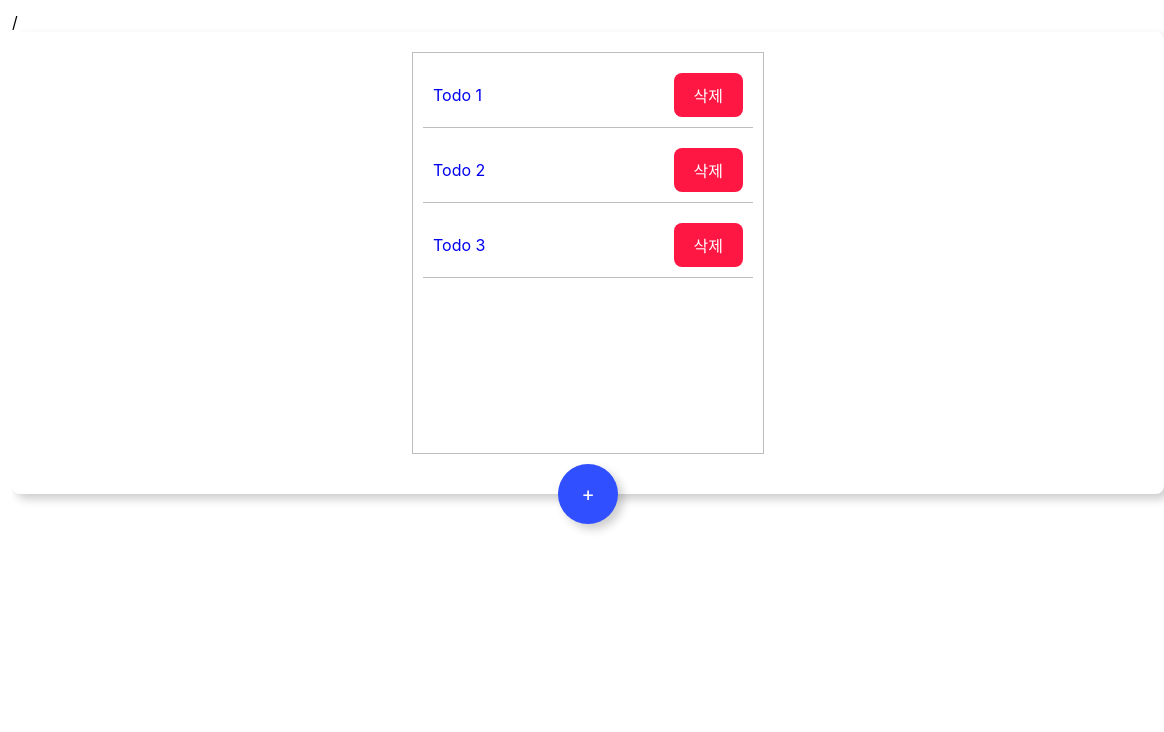
<List /> › 5. 추가 버튼을 누르면 할 일 추가 페이지("/add")로 이동한다.
Expected: the text "/" is shown, [12,12,18,32]
Click the link "+" at (588, 494), box [558,464,618,524]
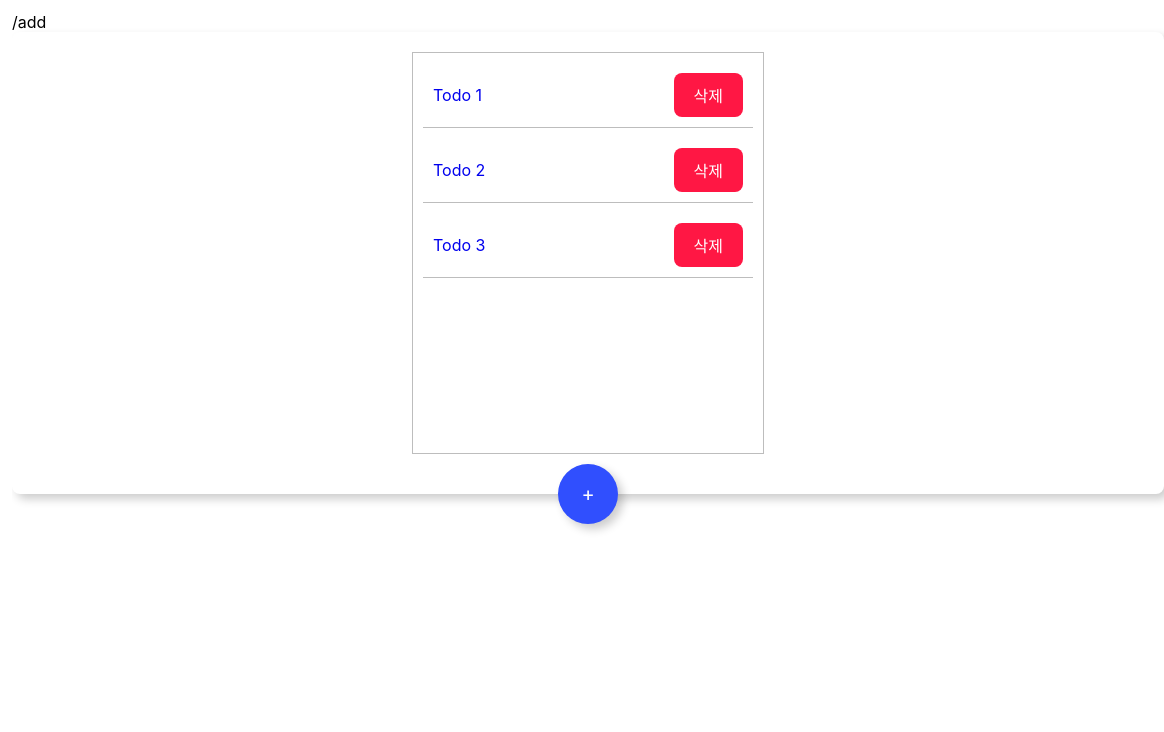
Expected: the text "/" reads "/add", [12,12,46,32]
